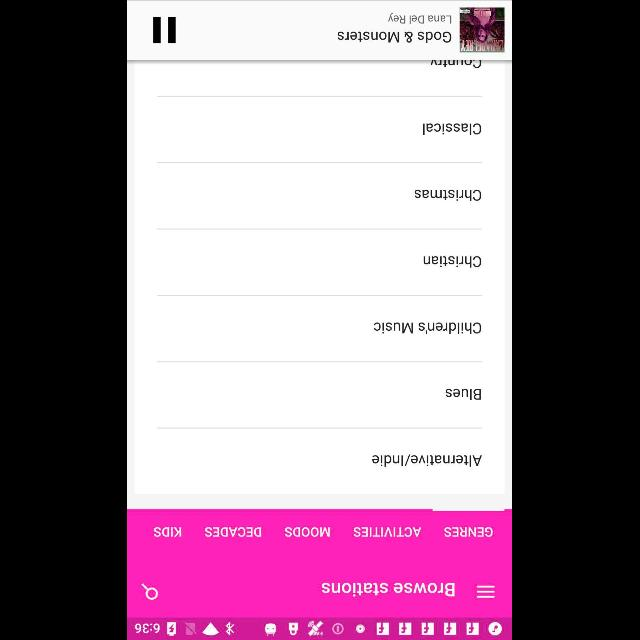icon: (142, 582, 158, 600), (478, 584, 497, 598)
image: (460, 8, 506, 52), (154, 16, 176, 44)
text: (322, 582, 456, 596), (338, 31, 452, 44), (372, 454, 482, 466), (374, 322, 482, 334), (416, 190, 482, 202), (388, 13, 452, 25), (423, 123, 482, 135), (424, 256, 482, 268), (205, 526, 262, 538), (354, 526, 422, 536), (444, 526, 494, 538), (285, 527, 331, 537), (446, 388, 482, 400), (430, 60, 482, 68), (154, 526, 182, 538)
uppertaskbar: (128, 617, 512, 639)
